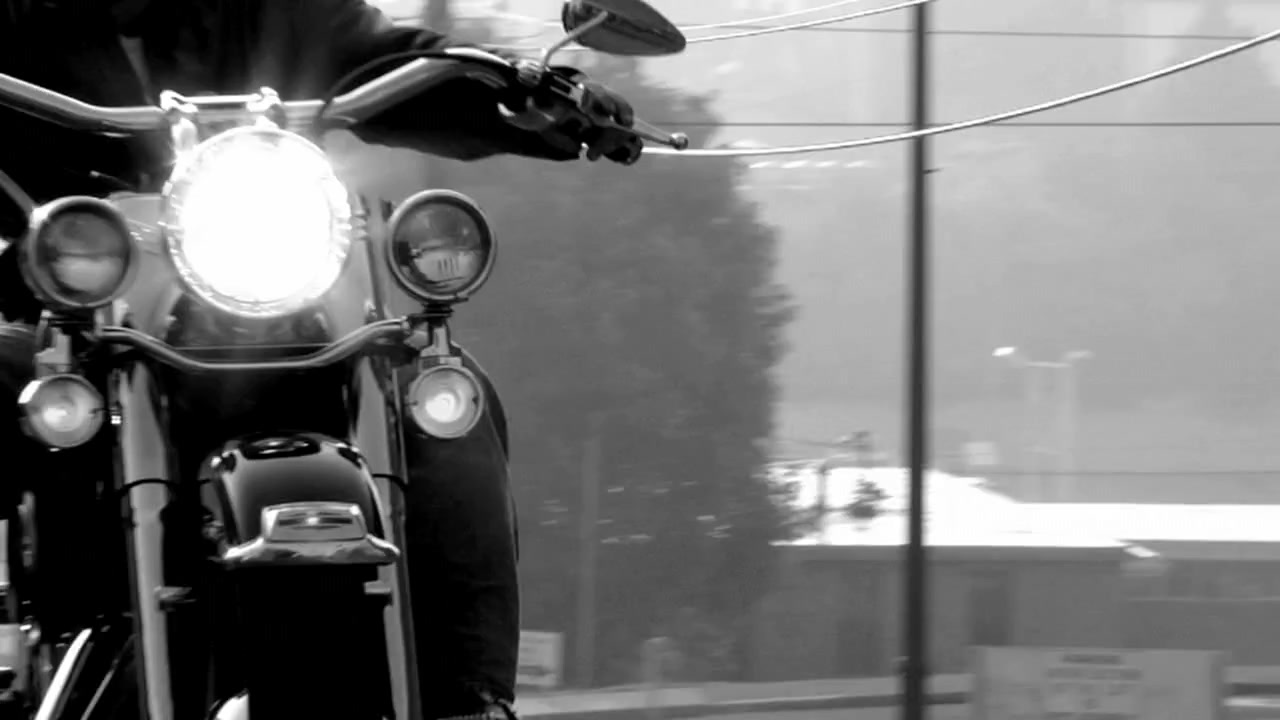motorbike: (1, 1, 691, 720)
